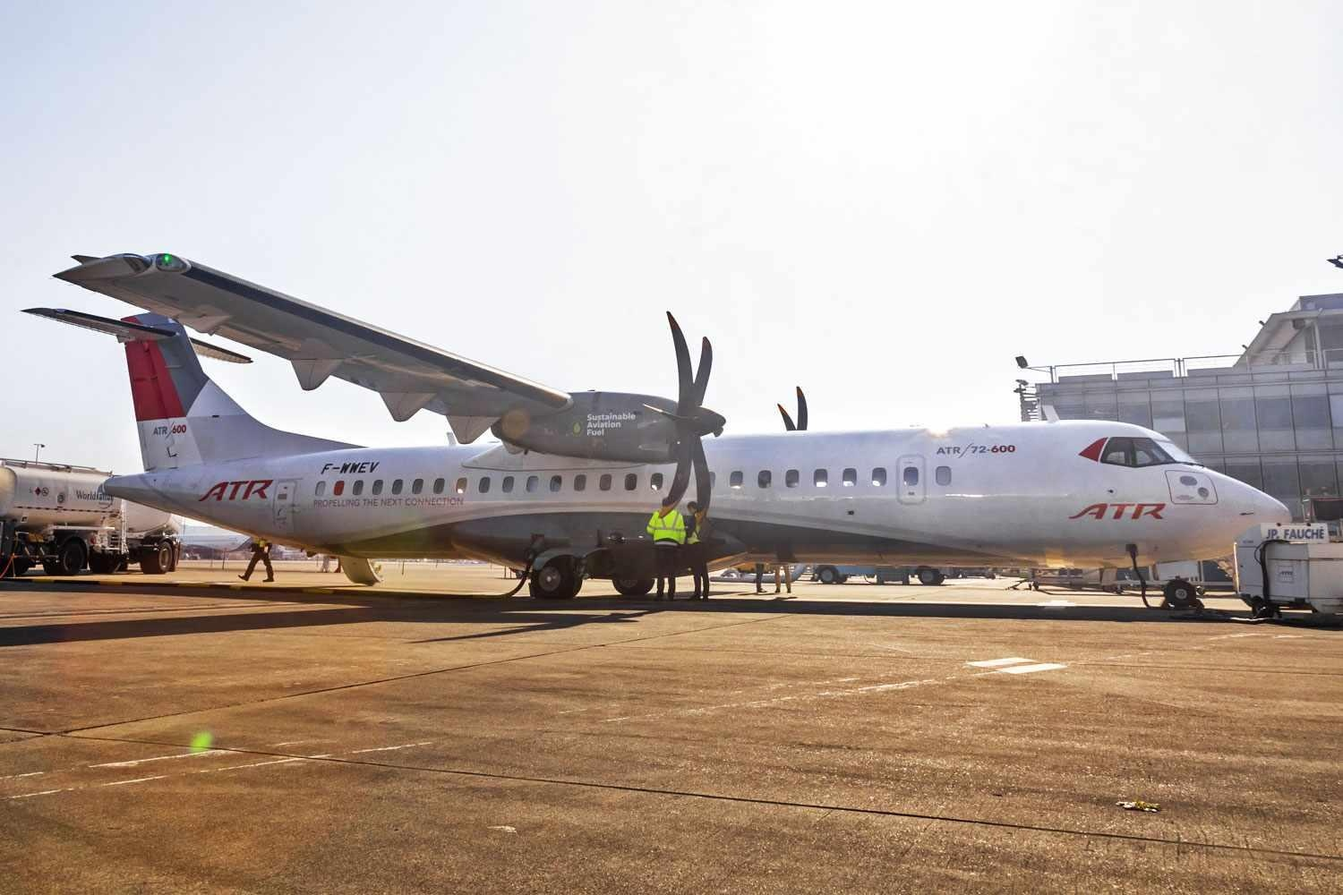aircraft: (27, 246, 1317, 598)
